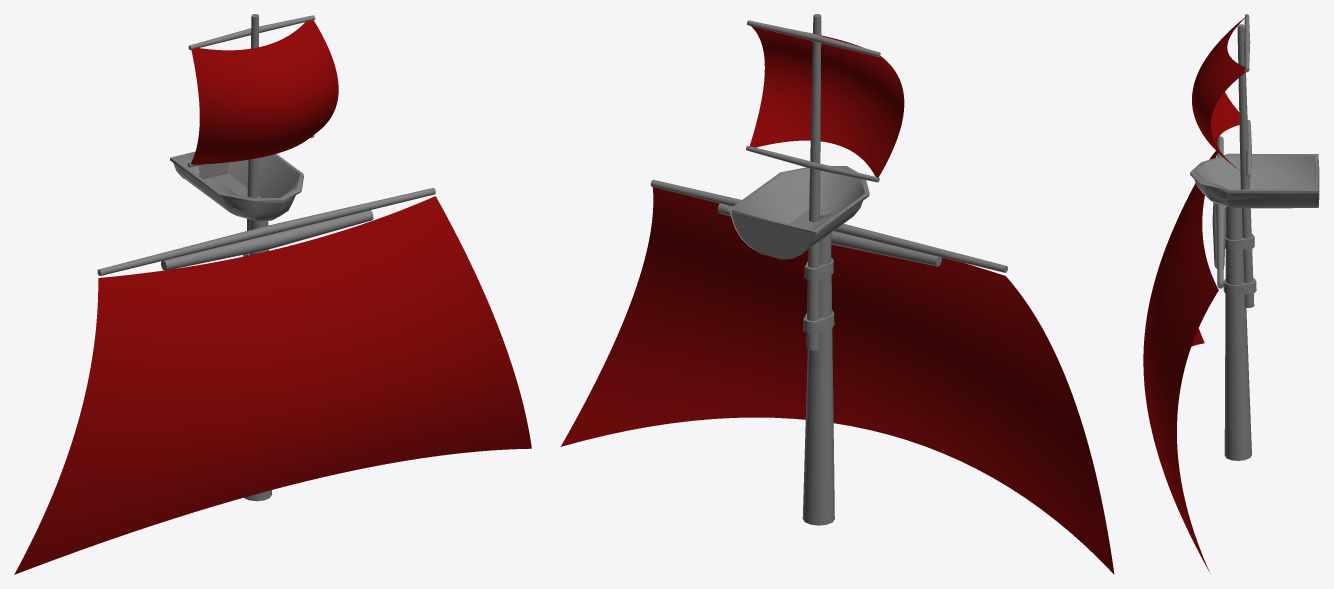
File: MastMidTop.fbx
3 views of the same model, side by side, from view 1: azimuth 30°, elevation 25°; view 2: azimuth 150°, elevation 25°; view 3: azimuth 270°, elevation 25° (orthographic). The views are drawn at different scales.
Visible parts, largest first — view 1: Object001; view 2: Object001; view 3: Object001.
Boxes of the visible parts, x1,y1,x2,y2 form: Object001: [14, 14, 531, 574]; Object001: [560, 14, 1114, 574]; Object001: [1143, 14, 1319, 574].
Size of the model in its own units: 34.64 by 30.76 by 11.28.
